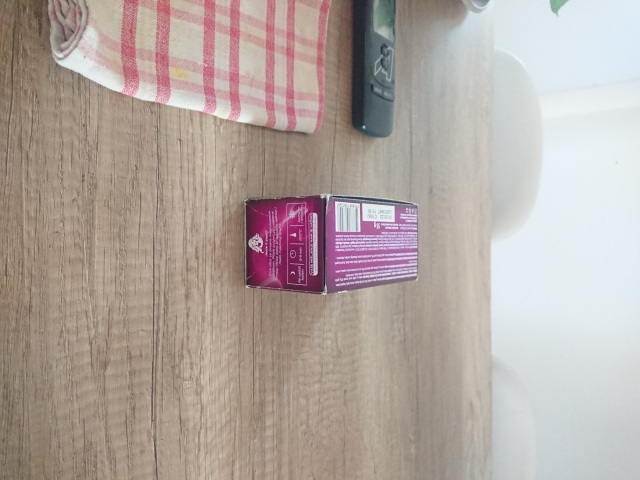Franck Black Currant Tea 60g: (241, 190, 422, 299)
